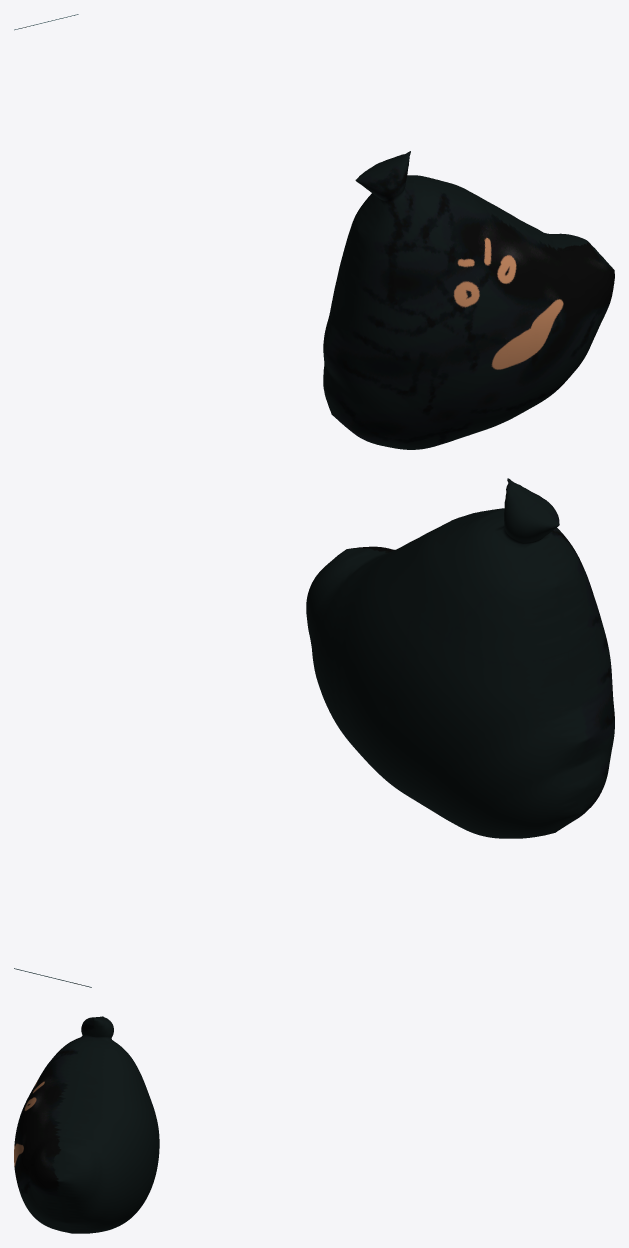
File: trash bag.fbx
The picture shows the model from 3 angles, top to bottom: view 1: azimuth 30°, elevation 25°; view 2: azimuth 150°, elevation 25°; view 3: azimuth 270°, elevation 25°; orthographic projection. The views are drawn at different scales.
Parts seen in each view (by area): view 1: node_id8; view 2: node_id8; view 3: node_id8.
Boxes of the visible parts, bbox=[...] form: node_id8: bbox=[323, 151, 614, 449]; node_id8: bbox=[306, 478, 614, 838]; node_id8: bbox=[14, 1016, 159, 1233].
Bounding box in the file's own units: 0.3401 × 0.3705 × 0.9855.
Materials: 2 (2 with a texture image).
